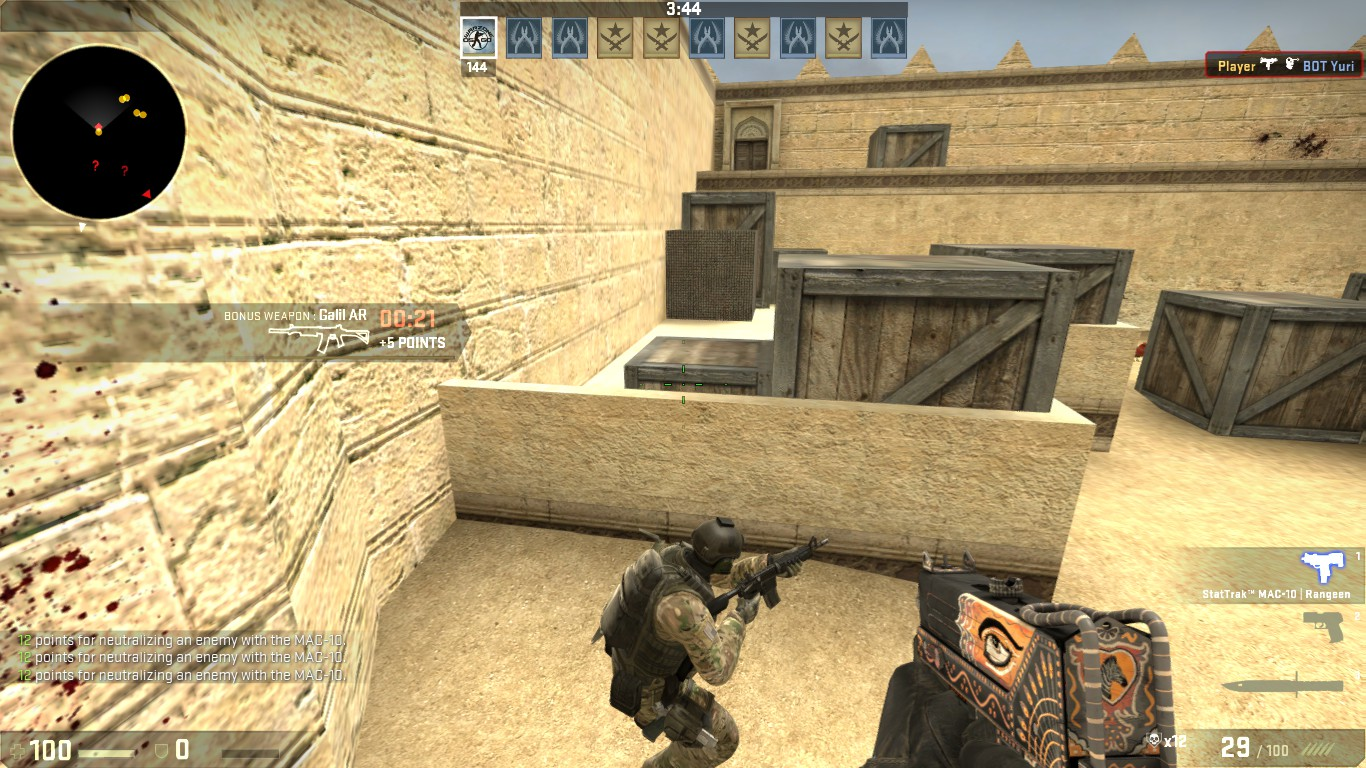c: (603, 515, 764, 768)
ch: (679, 513, 751, 578)
